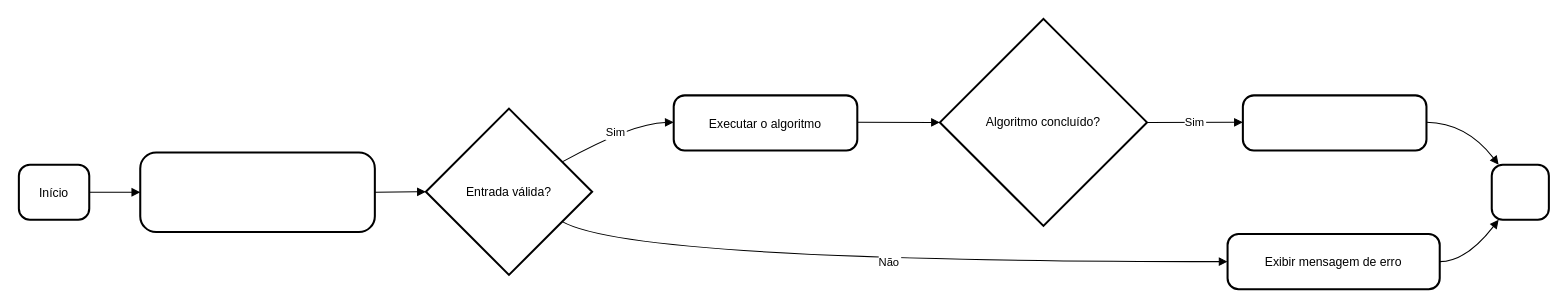
Image size: 1567x307. Some labels were removed from this diagram. The box of each missing label's shape, as (x1, y1, x2, y2) in pixels:
Exibir resultado final: (1241, 94, 1427, 151)
Fim: (1490, 163, 1549, 220)
Receber os dados de entrada: (139, 151, 375, 233)
